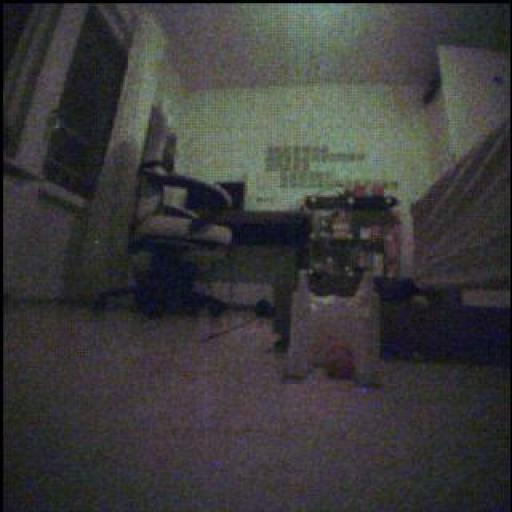basket: (323, 342, 357, 383)
